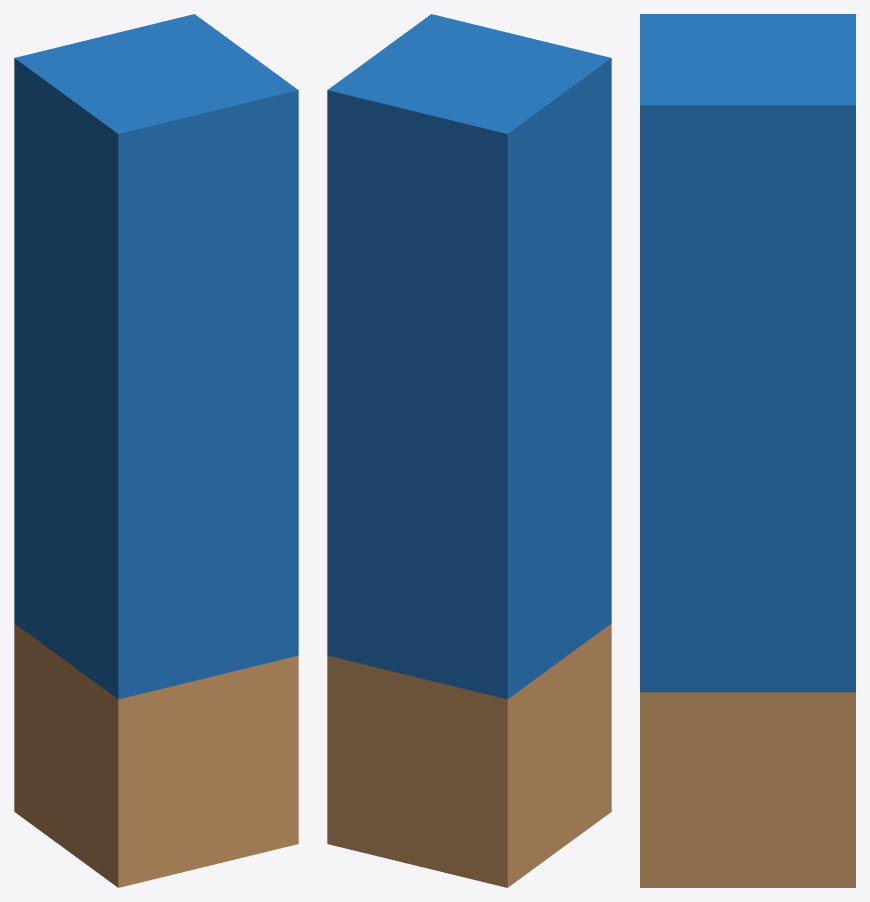
File: Arm.glb
3 renders of one model, left to right at view 1: azimuth 30°, elevation 25°; view 2: azimuth 150°, elevation 25°; view 3: azimuth 270°, elevation 25°, orthographic. The views are drawn at different scales.
Parts seen in each view (by area): view 1: Arm; view 2: Arm; view 3: Arm.
Boxes of the visible parts, x1=… form: Arm: x1=14, y1=14, x2=298, y2=887; Arm: x1=327, y1=14, x2=611, y2=887; Arm: x1=640, y1=14, x2=855, y2=887.
Size of the model in its own units: 3 by 12 by 3.
